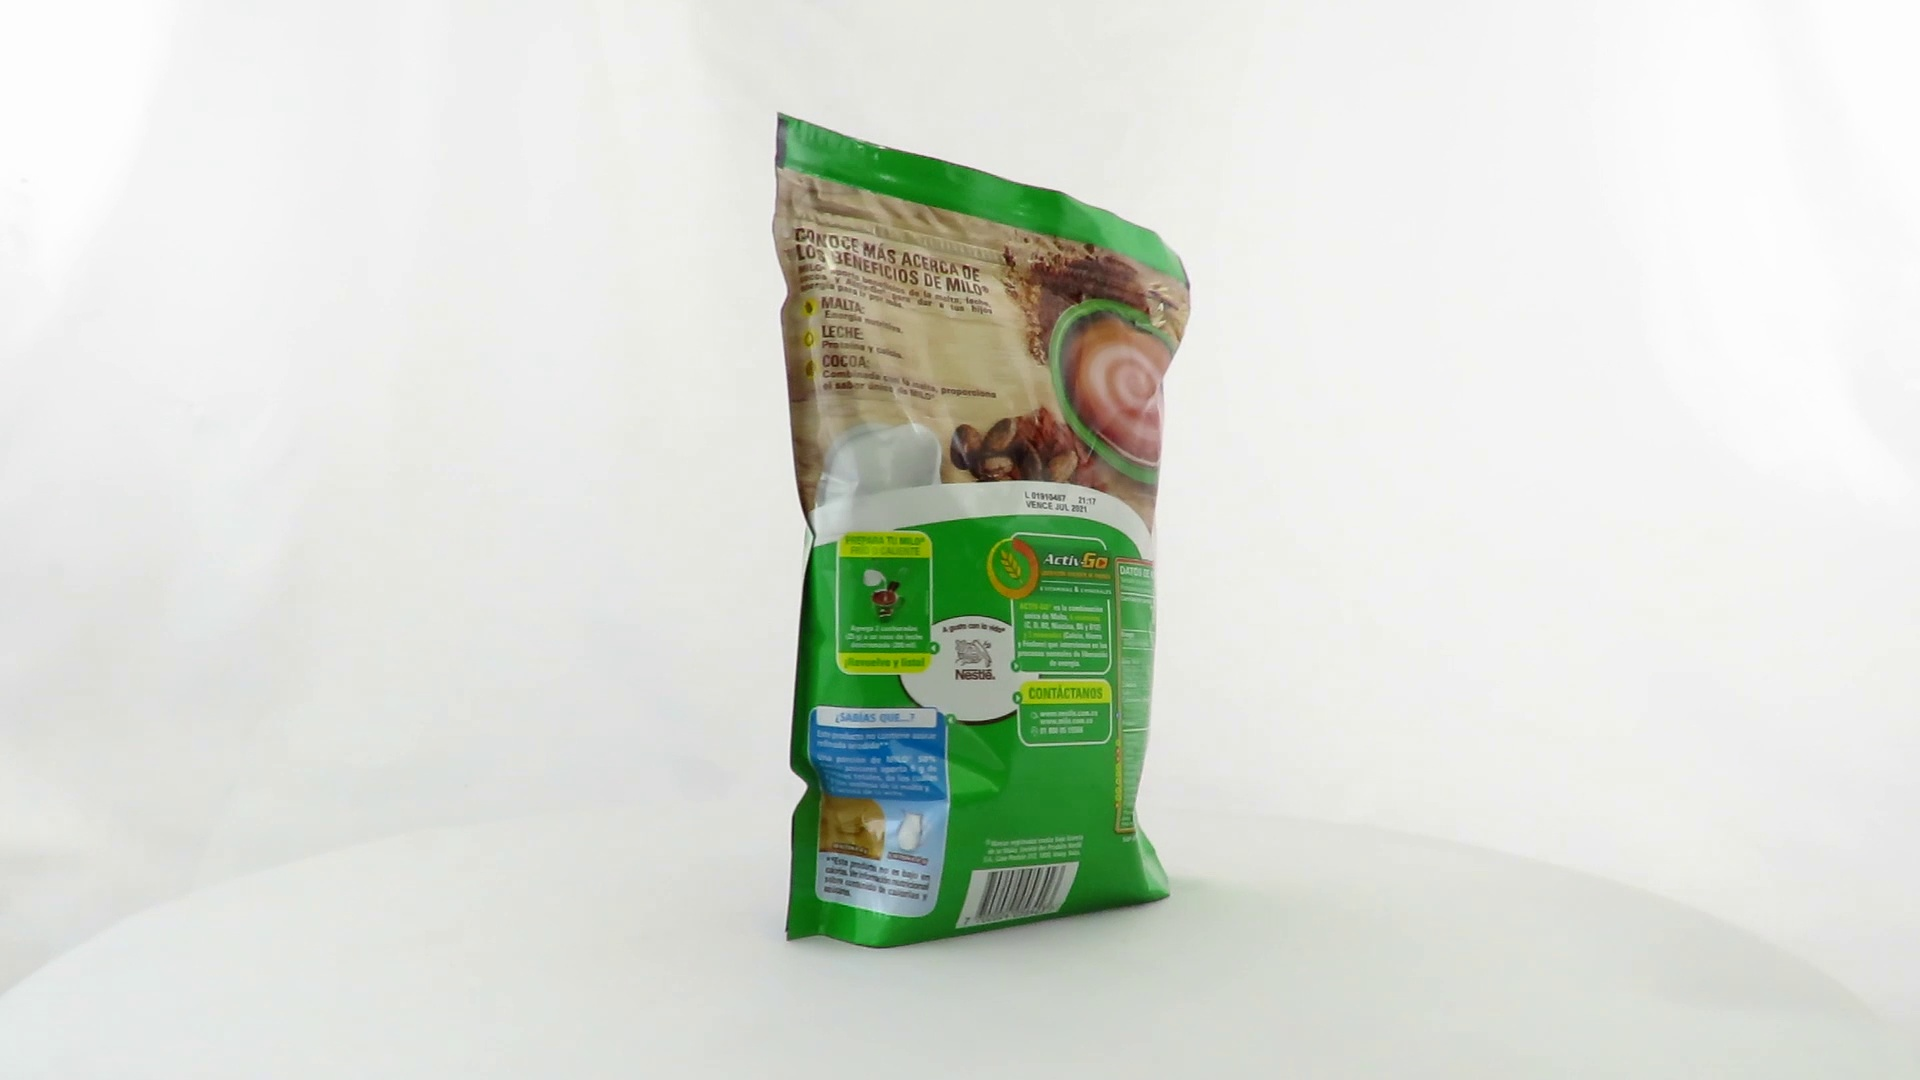COL0170205DYP50000: (767, 107, 1197, 955)
